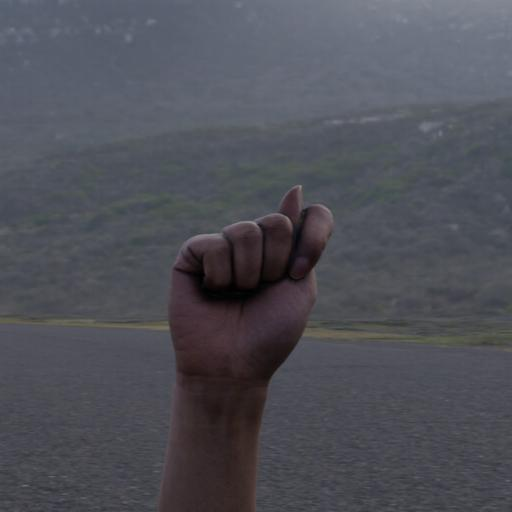T: (151, 174, 349, 425)
